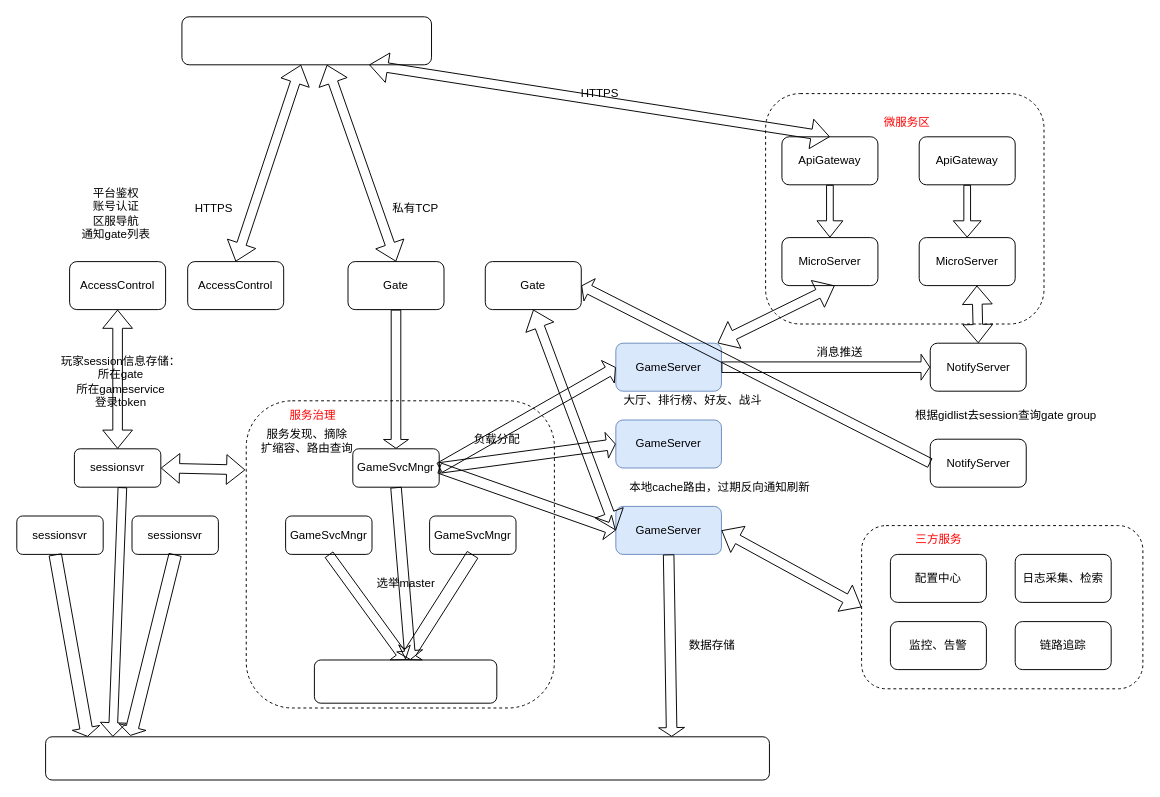
Some shapes in this 1160 by 797 pixel diagram are drawn without their labels. Here are the shapes that lost their labels. From the top down, the box of each, then its label:
(181, 16, 432, 65): Client
(313, 659, 497, 703): 分布式kv存储(etcd)
(45, 736, 769, 780): DB存储(mongodb、mysql)
